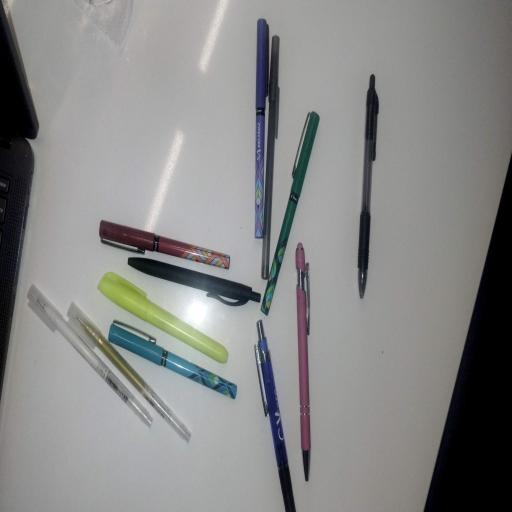pen: (28, 285, 152, 426), (68, 303, 190, 442), (261, 112, 319, 314), (98, 273, 228, 362), (109, 321, 237, 398), (255, 321, 295, 511), (100, 220, 229, 269), (128, 258, 260, 305), (358, 74, 379, 298), (262, 36, 279, 279), (296, 243, 310, 481), (255, 19, 268, 238)
